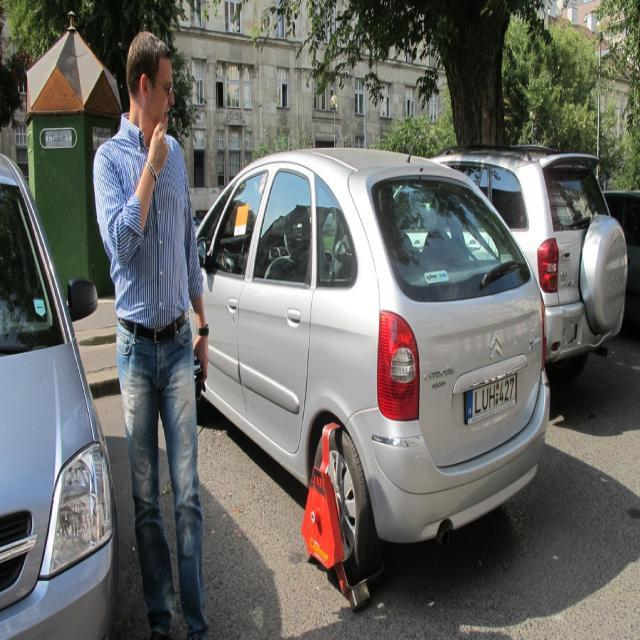truck: (167, 142, 565, 574)
